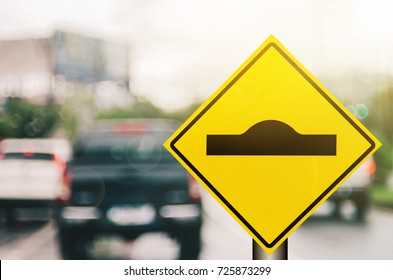speed-breaker: (170, 42, 377, 247)
